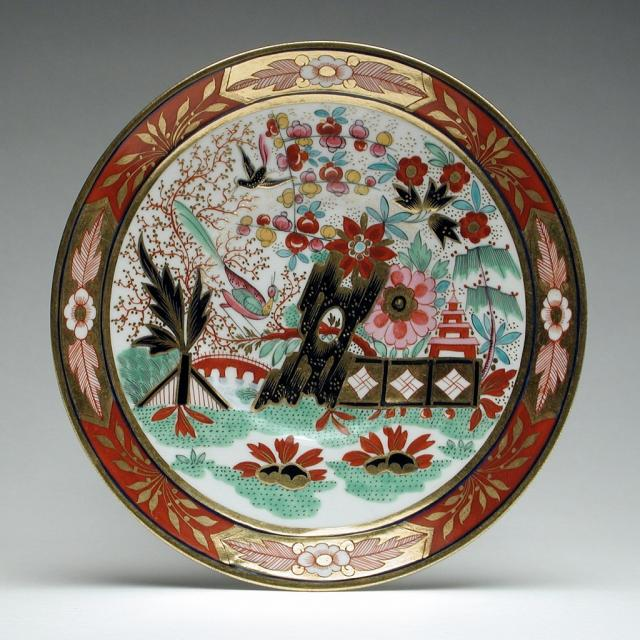non-organic waste: (49, 45, 590, 606)
